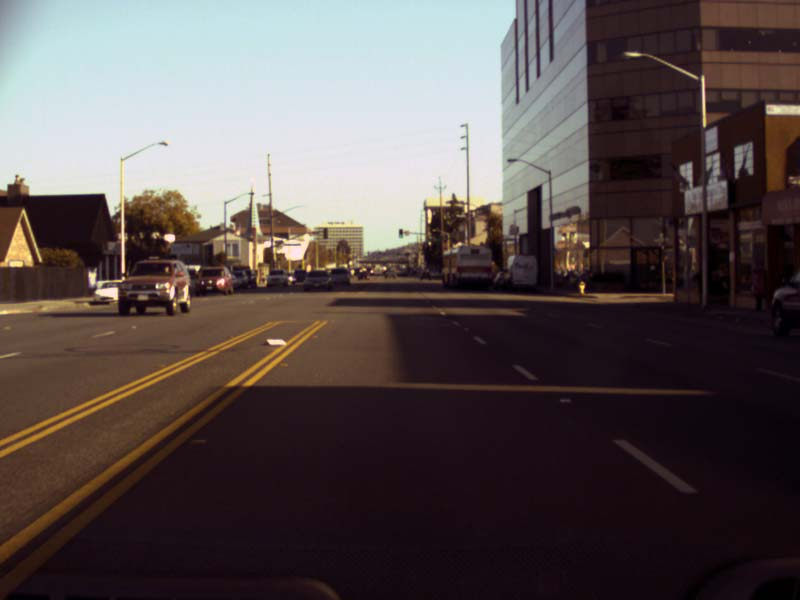Green: (398, 228, 403, 237)
